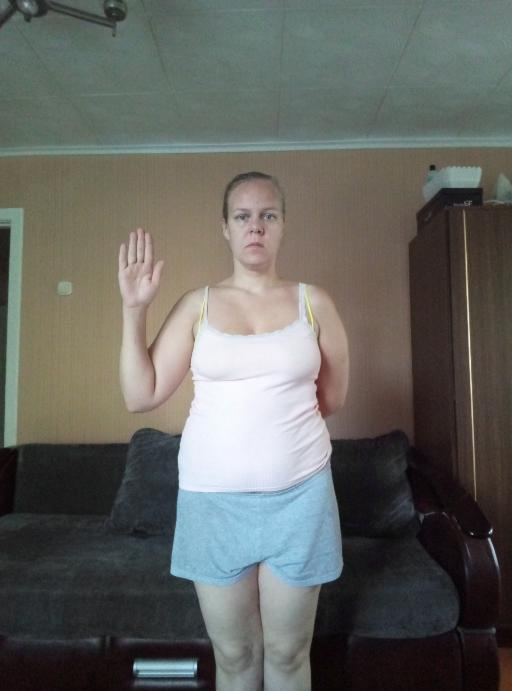stop: (113, 223, 166, 314)
